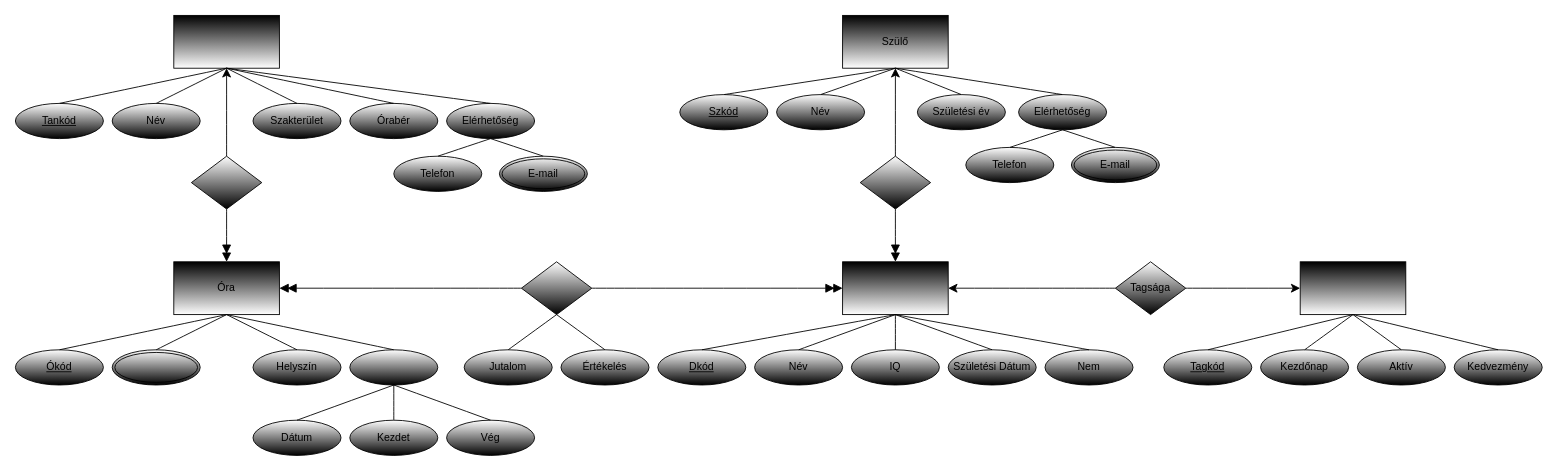
Some shapes in this 1558 by 471 pixel diagram are drawn without their labels. Each missing label, with the box of its shape:
Diák: (842, 261, 948, 315)
Időpont: (349, 349, 438, 385)
Részvétel: (521, 261, 592, 315)
Szülője: (859, 155, 931, 209)
Tagság: (1299, 261, 1406, 315)
Tanár: (173, 15, 279, 68)
Téma: (111, 349, 200, 385)
Óraadó: (191, 155, 262, 209)
